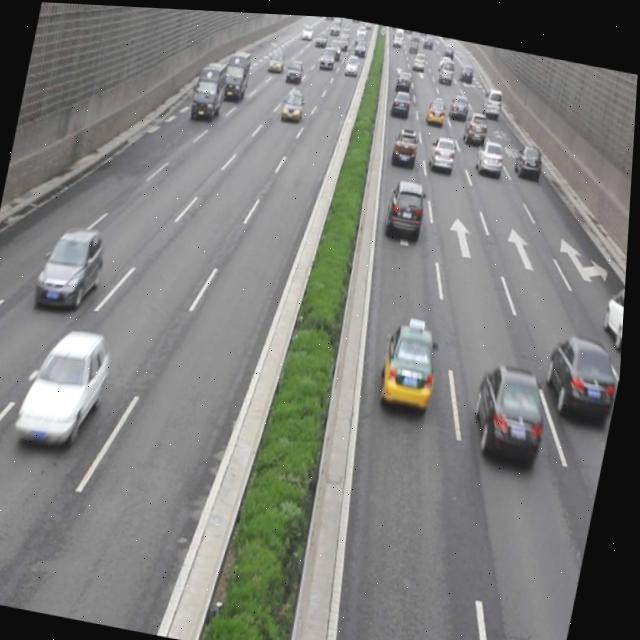car: (19, 320, 119, 448), (471, 353, 557, 461), (542, 324, 626, 414), (36, 219, 112, 314), (377, 314, 448, 410), (599, 272, 628, 339), (390, 120, 423, 165), (475, 130, 507, 170), (430, 128, 460, 167), (281, 84, 309, 123), (513, 137, 544, 172), (464, 103, 492, 140), (426, 91, 448, 121), (392, 85, 413, 114)
truck: (385, 173, 432, 235), (189, 56, 232, 122), (220, 45, 254, 100)
